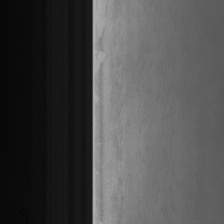silk_spot: (113, 36, 132, 211)
